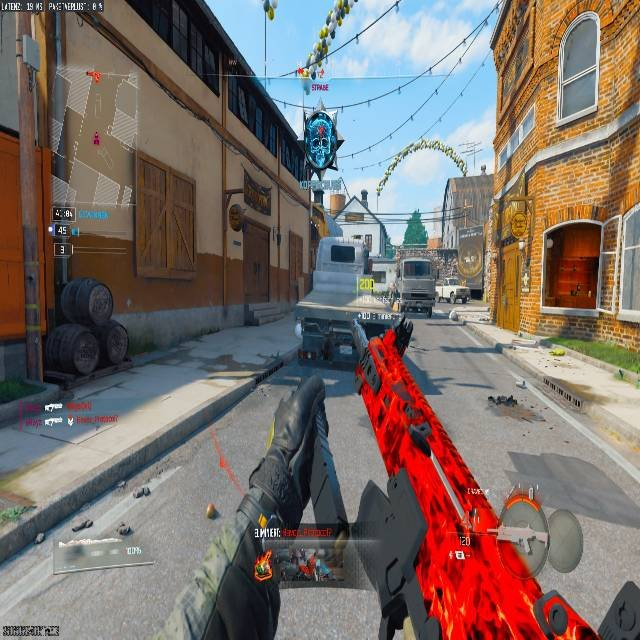player: (48, 204, 75, 249)
